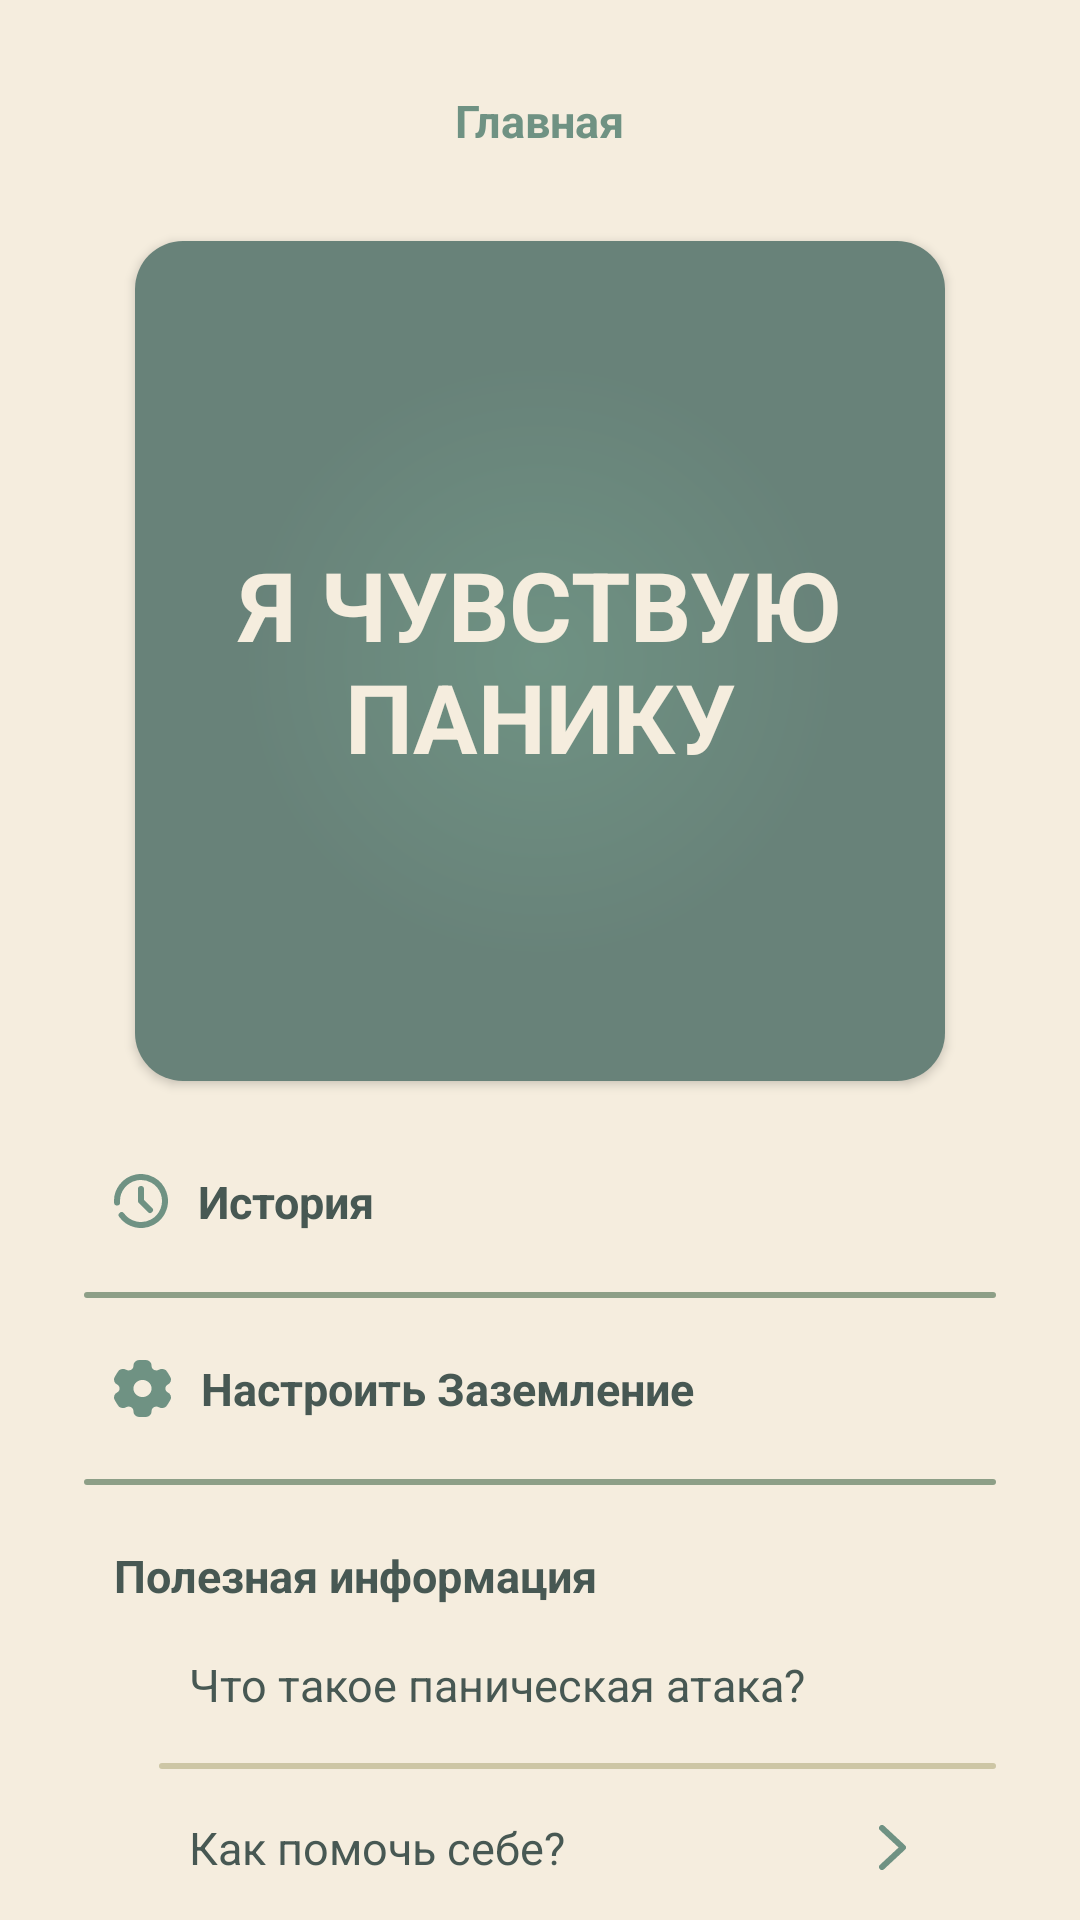

Where to tap for icons on this 1080×1920 app screen, as point (x, y):
arrow right: point (892, 1847)
history: point (141, 1201)
settings: point (142, 1388)
